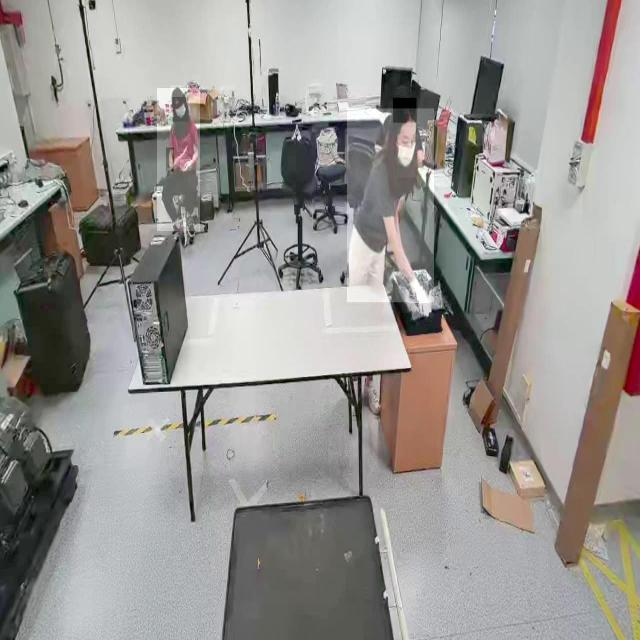face_mask: (409, 276, 431, 318), (397, 127, 415, 178), (172, 97, 188, 122)
hand_noglove: (166, 148, 174, 172), (180, 159, 192, 172)
head_nohelmet: (393, 98, 417, 124), (170, 85, 183, 98)
person: (347, 109, 435, 303), (157, 88, 201, 232)
